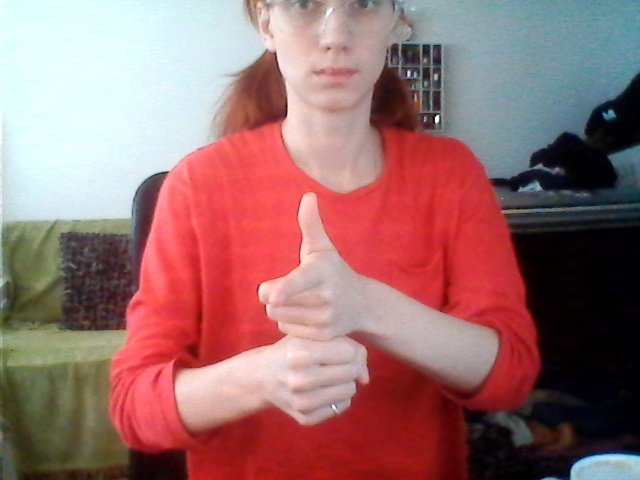kamera: (244, 189, 384, 428)
